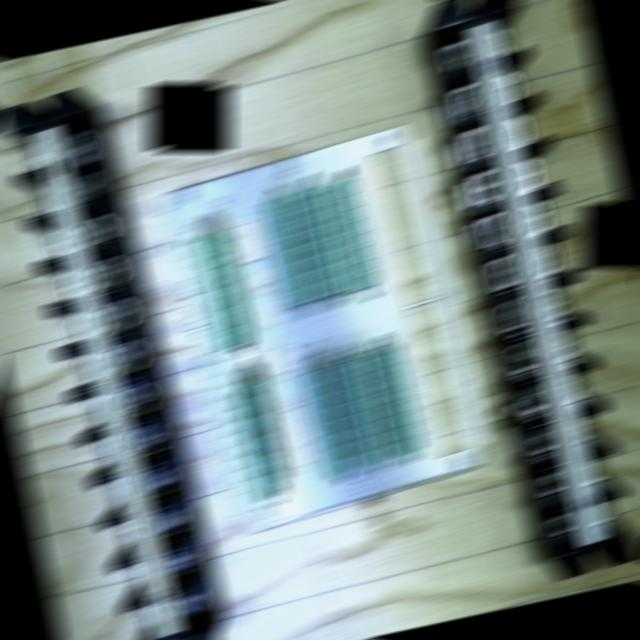Flathead_Block: (0, 91, 212, 640)
Phillips_Block: (434, 0, 640, 577)
Terminal_1: (194, 229, 255, 349), (231, 384, 288, 500)
Terminal_2: (261, 192, 316, 306), (301, 367, 357, 478), (294, 183, 349, 295), (336, 357, 390, 468), (370, 346, 423, 457)
